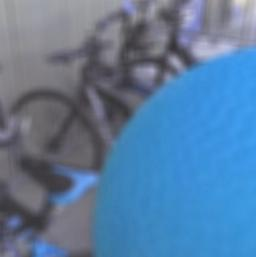algae: (90, 38, 256, 257)
